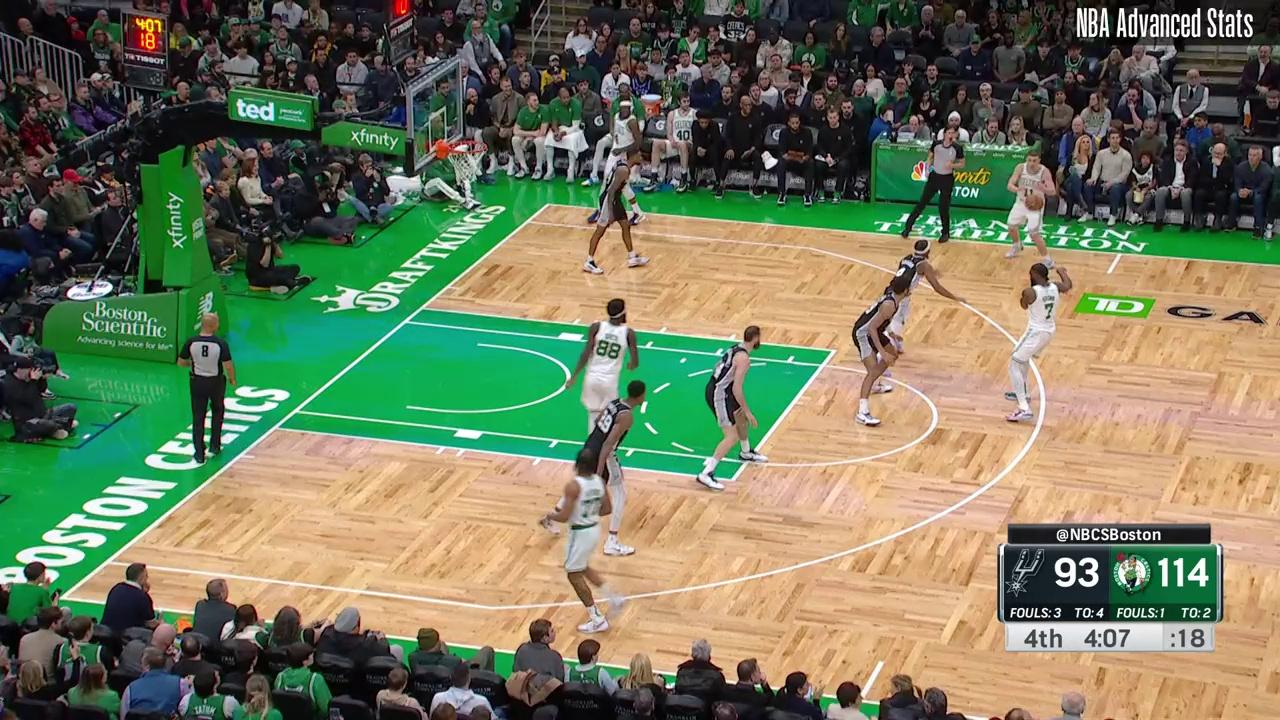3_dx: (523, 218, 532, 226)
3_sx: (103, 557, 112, 566)
b_dx: (544, 201, 552, 209)
b_sx: (57, 592, 69, 603)
free_adx: (828, 346, 839, 357)
free_asx: (727, 474, 738, 485)
free_bdx: (418, 305, 425, 312)
free_bsx: (270, 423, 279, 432)
mid_dx: (1103, 269, 1112, 278)
mid_sx: (874, 656, 887, 667)
referee: (173, 309, 237, 461), (903, 128, 963, 240)
team: (536, 452, 629, 643), (569, 300, 642, 451), (1007, 264, 1073, 421), (590, 97, 651, 224), (1003, 154, 1059, 273)
team1: (545, 380, 646, 558), (691, 323, 772, 491), (878, 241, 964, 360), (854, 279, 909, 428), (586, 147, 651, 271)
timer: (1081, 618, 1138, 656)
